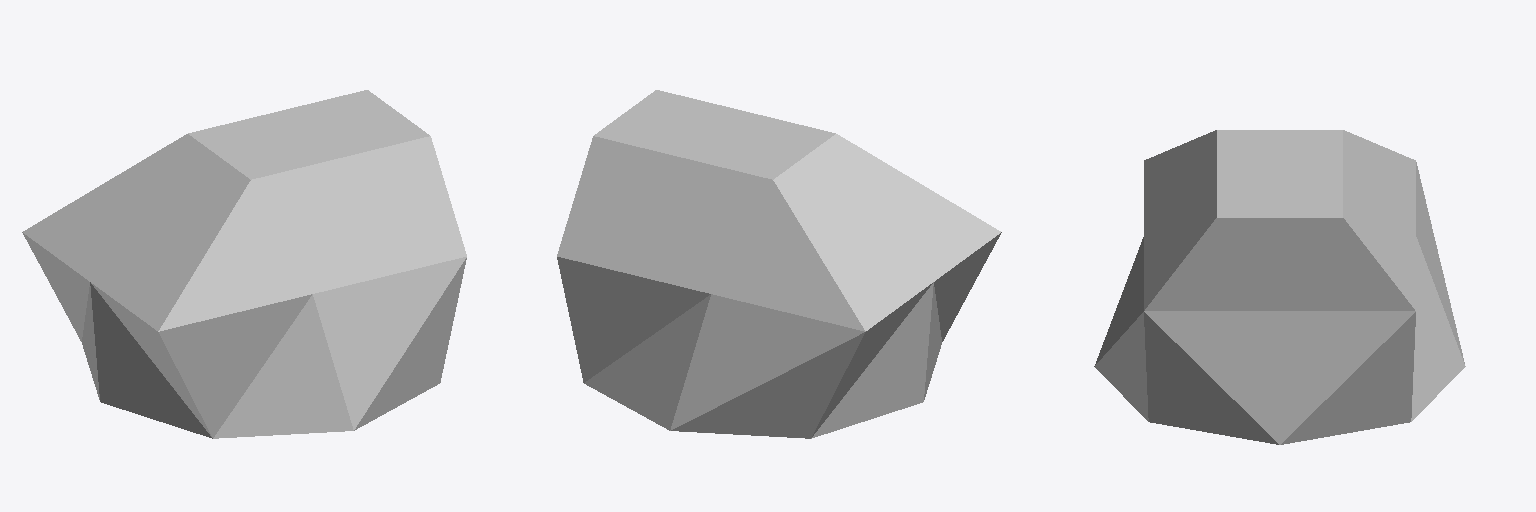
Rendered from HomeFuge_LaserBeamTurre.obj.
The picture shows the model from 3 angles: view 1: azimuth 30°, elevation 25°; view 2: azimuth 150°, elevation 25°; view 3: azimuth 270°, elevation 25°; orthographic projection.
Parts seen in each view (by area): view 1: LaserTurret.Right; view 2: LaserTurret.Right; view 3: LaserTurret.Right.
Part boxes in pixels (bbox=[...]): LaserTurret.Right: bbox=[22, 90, 466, 438]; LaserTurret.Right: bbox=[557, 90, 1001, 438]; LaserTurret.Right: bbox=[1094, 130, 1465, 444].
Size of the model in its own units: 18.98 by 11.84 by 18.41.